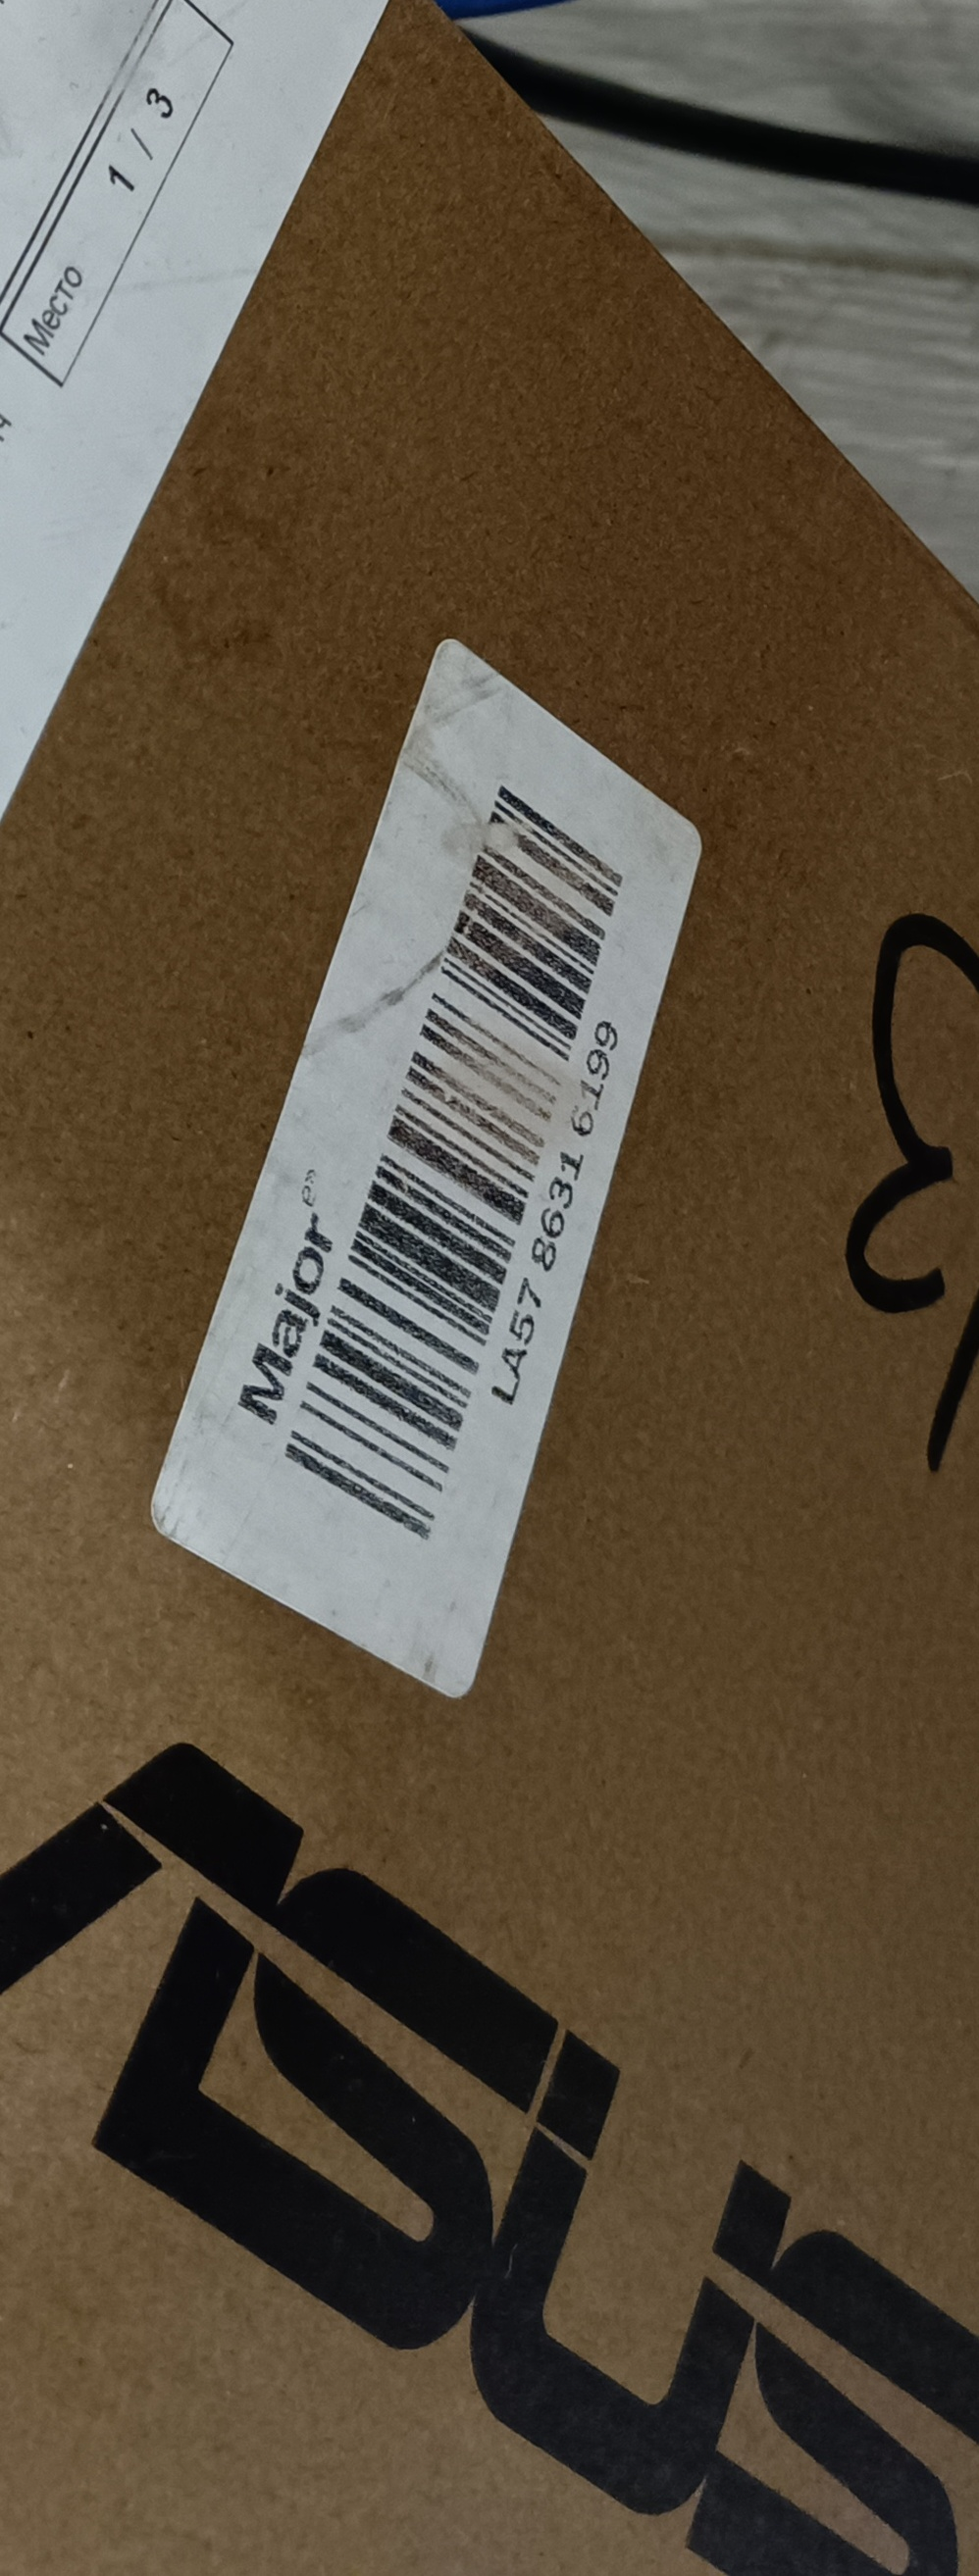1d: (274, 780, 629, 1536)
